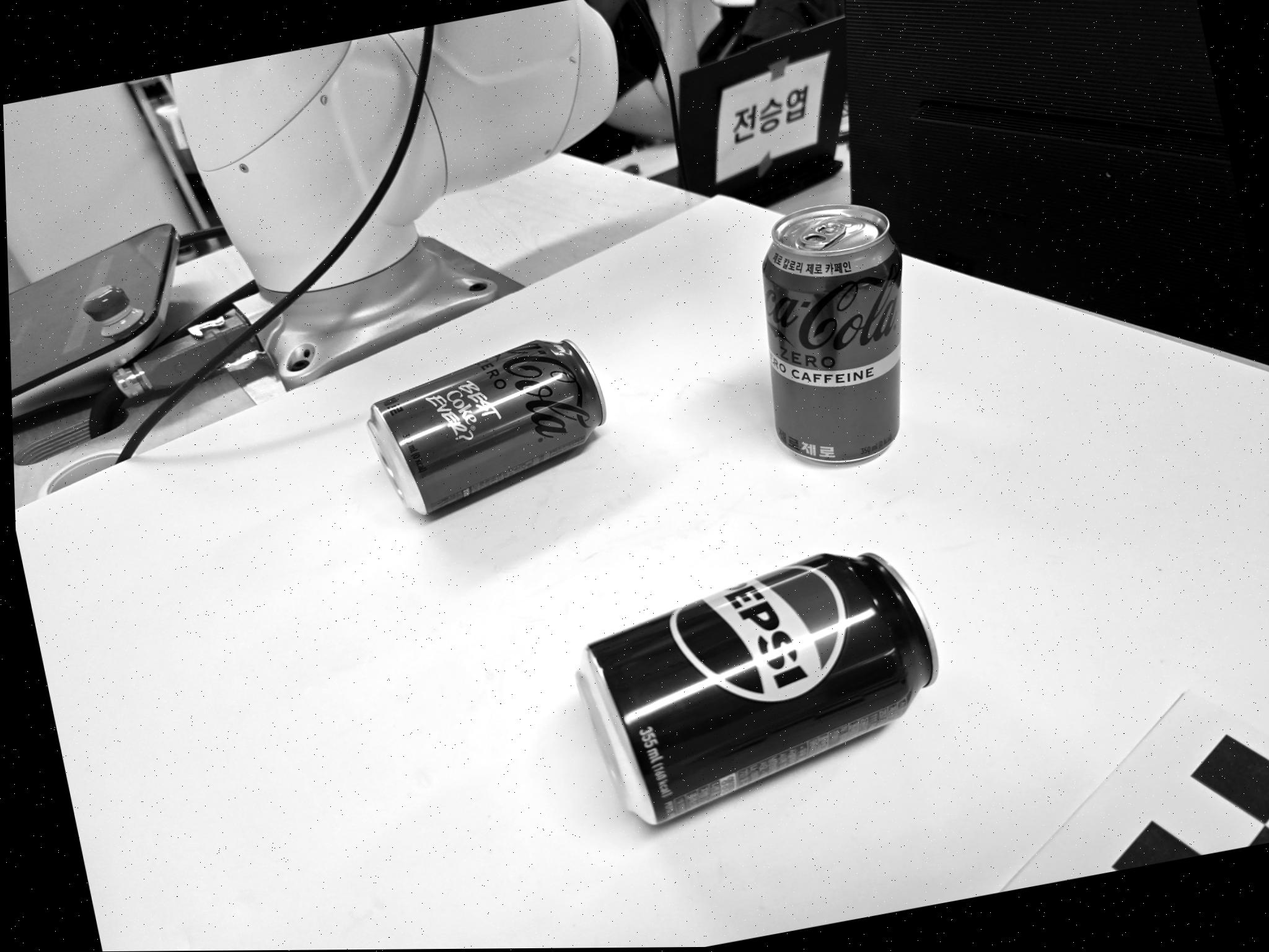can_coke_decaf: (759, 202, 902, 470)
can_coke_zero: (362, 340, 609, 516)
can_pepsi: (572, 552, 945, 827)
